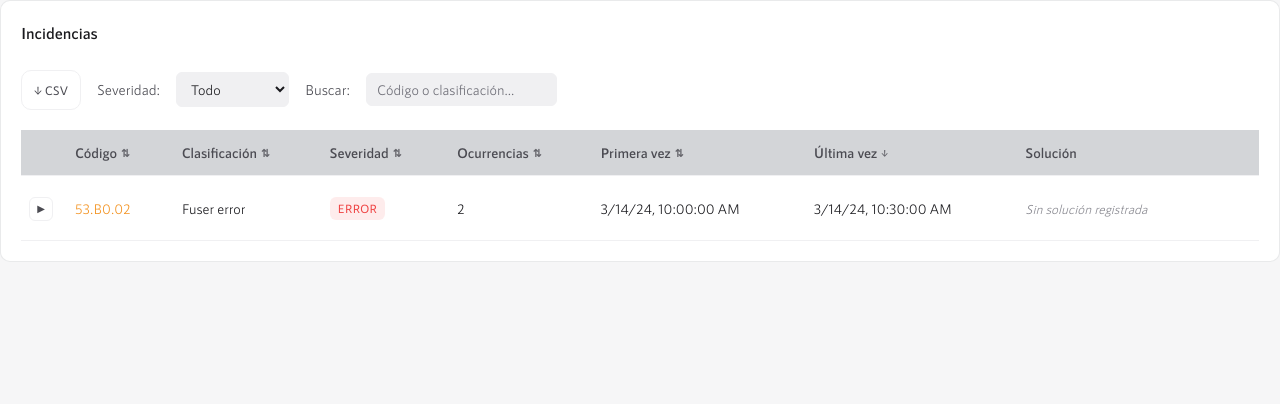
Test case: IncidentsTable › expansión de fila muestra el detalle de eventos internos
This screenshot has width=1280, height=404.
Expected: the text "100" is not shown
Click the button named "Expandir detalle".
click(41, 209)  # box [29,197,53,221]
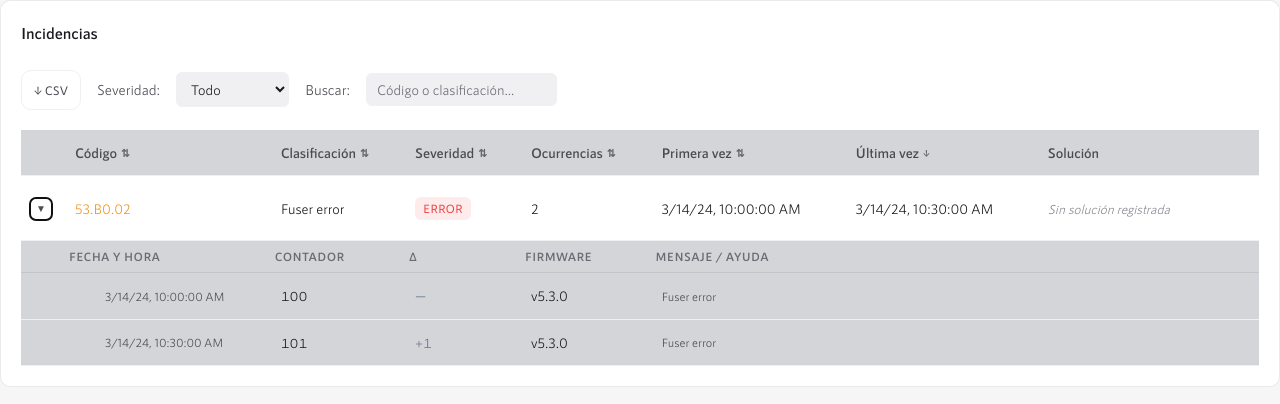
Expected: the text "100" is shown, [267,273,401,319]
